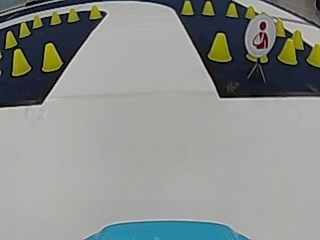cone: (207, 33, 231, 62), (12, 47, 31, 76), (43, 43, 62, 72), (281, 41, 298, 65), (305, 42, 319, 65), (5, 29, 19, 45), (183, 0, 196, 17), (86, 6, 101, 20), (275, 19, 286, 37), (203, 2, 215, 16), (68, 8, 80, 21), (227, 4, 239, 17), (21, 23, 32, 37), (49, 12, 60, 24), (246, 5, 255, 19), (33, 16, 44, 27)
patient: (247, 17, 276, 53)
